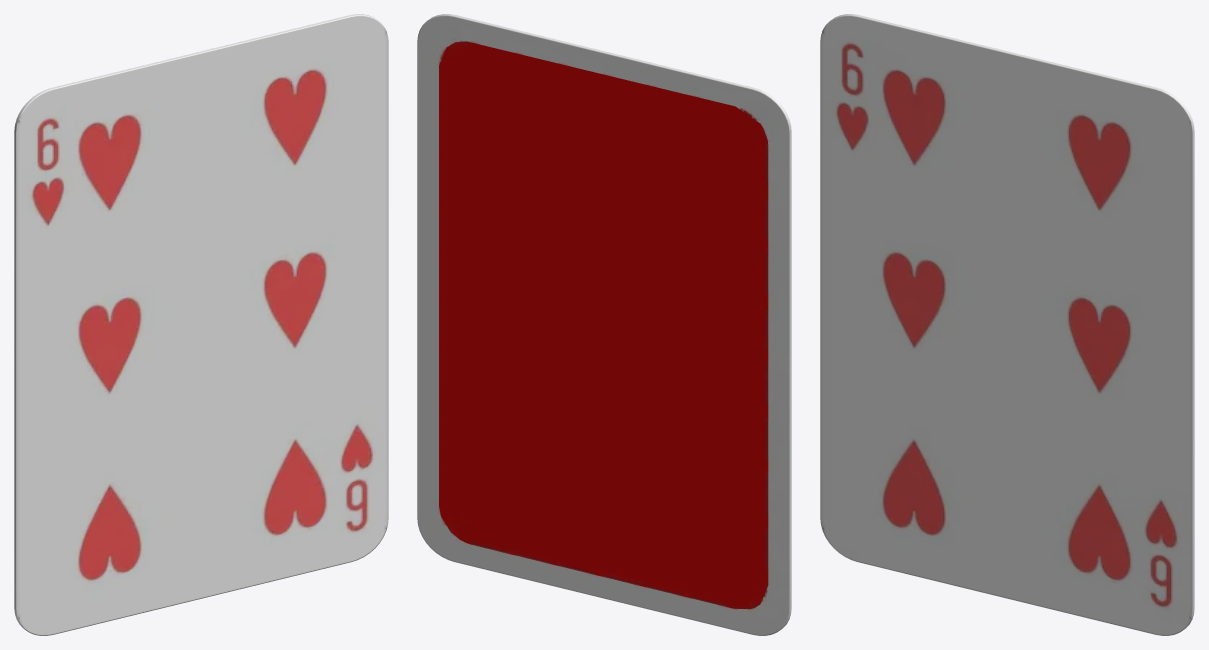
File: hearts_6.glb
The picture shows the model from 3 angles, left to right: view 1: azimuth 30°, elevation 25°; view 2: azimuth 150°, elevation 25°; view 3: azimuth 330°, elevation 25°; orthographic projection.
Parts seen in each view (by area): view 1: defaultMaterial.042; view 2: defaultMaterial.042; view 3: defaultMaterial.042.
Boxes of the visible parts, x1,y1,x2,y2 form: defaultMaterial.042: [14, 14, 388, 635]; defaultMaterial.042: [417, 14, 791, 635]; defaultMaterial.042: [820, 14, 1194, 635].
Size of the model in its own units: 0.1408 by 0.1972 by 0.00111.
1 material, 1 textured.
